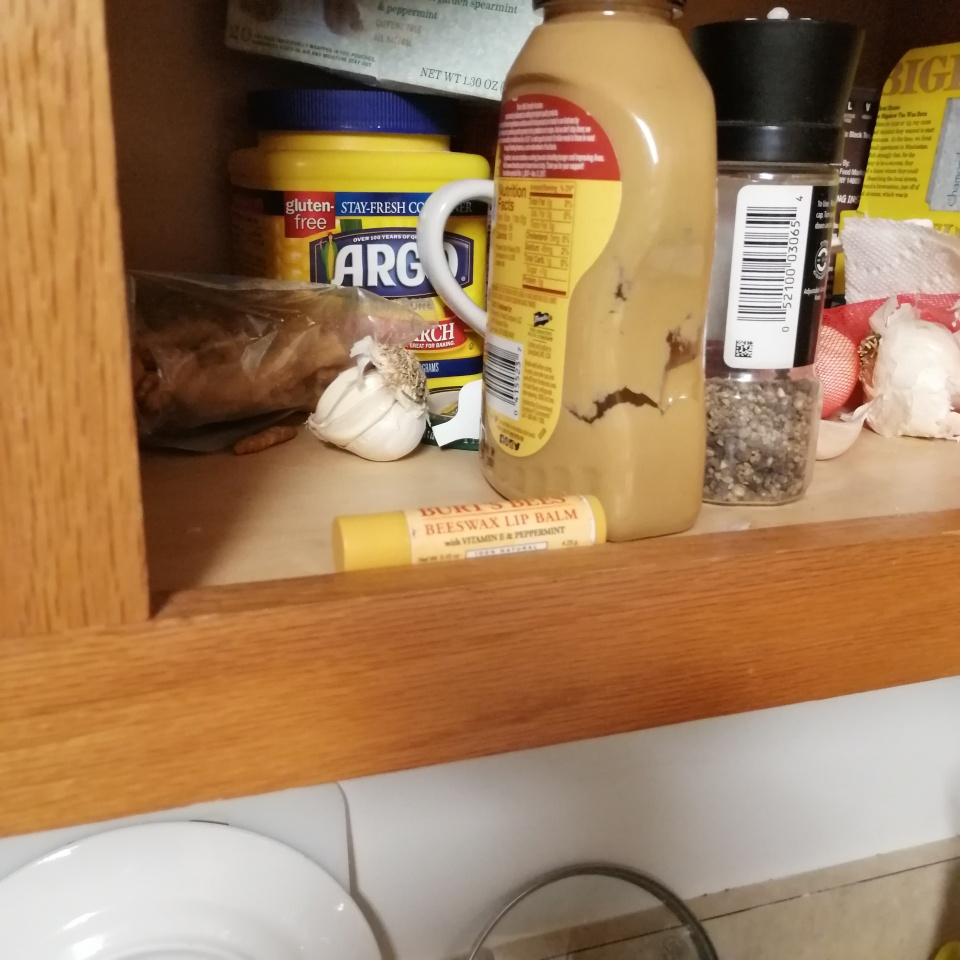chapstick: (331, 492, 609, 576)
